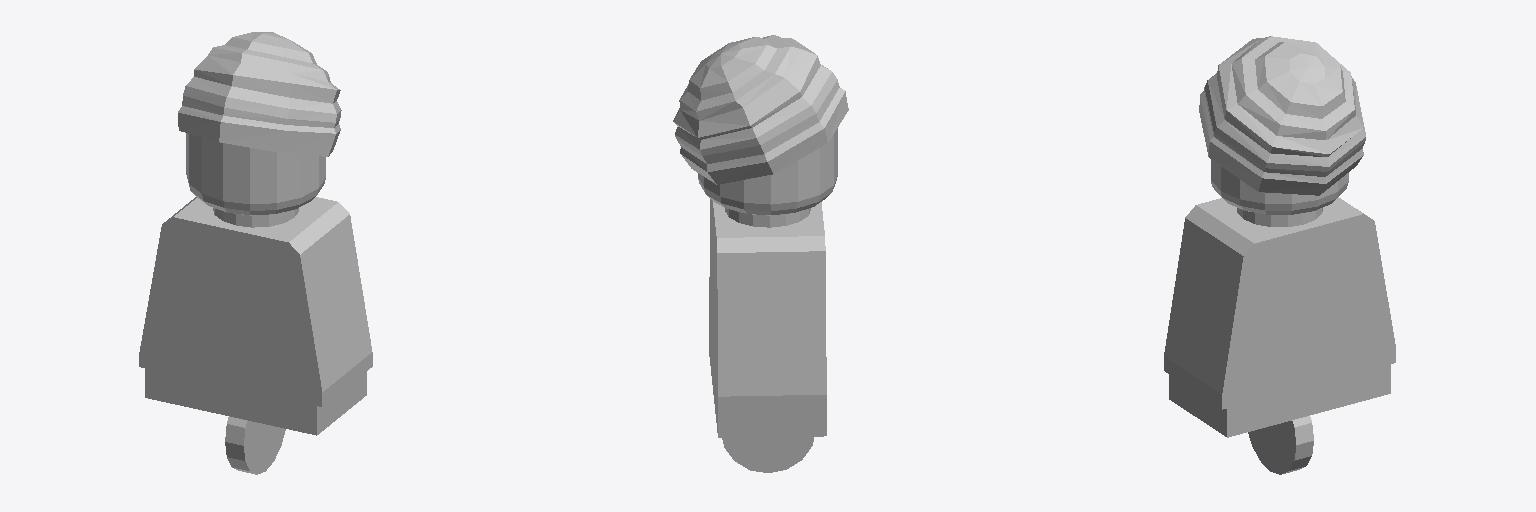
File: person2CaraCuerpo.obj
3 renders of one model, left to right at view 1: azimuth 30°, elevation 25°; view 2: azimuth 150°, elevation 25°; view 3: azimuth 270°, elevation 25°, orthographic.
Parts seen in each view (by area): view 1: group1 person1:legocharacter2body3, person1:legocharacter2hat1 group1, group1 person1:legocharacter2head3, group1 person1:legocharacter2botbody3; view 2: group1 person1:legocharacter2body3, person1:legocharacter2hat1 group1, group1 person1:legocharacter2head3, group1 person1:legocharacter2botbody3; view 3: group1 person1:legocharacter2body3, person1:legocharacter2hat1 group1, group1 person1:legocharacter2head3, group1 person1:legocharacter2botbody3.
Part boxes in pixels (bbox=[...]): group1 person1:legocharacter2body3: bbox=[139, 197, 372, 435]; person1:legocharacter2hat1 group1: bbox=[178, 32, 341, 156]; group1 person1:legocharacter2head3: bbox=[186, 133, 325, 227]; group1 person1:legocharacter2botbody3: bbox=[225, 416, 285, 474]; group1 person1:legocharacter2body3: bbox=[709, 199, 826, 437]; person1:legocharacter2hat1 group1: bbox=[673, 35, 848, 184]; group1 person1:legocharacter2head3: bbox=[698, 128, 837, 227]; group1 person1:legocharacter2botbody3: bbox=[722, 437, 813, 472]; group1 person1:legocharacter2body3: bbox=[1164, 197, 1395, 437]; person1:legocharacter2hat1 group1: bbox=[1199, 36, 1365, 195]; group1 person1:legocharacter2head3: bbox=[1211, 160, 1348, 226]; group1 person1:legocharacter2botbody3: bbox=[1248, 416, 1313, 474].
Bounding box in the file's own units: 0.8291 × 1.93 × 0.9511.